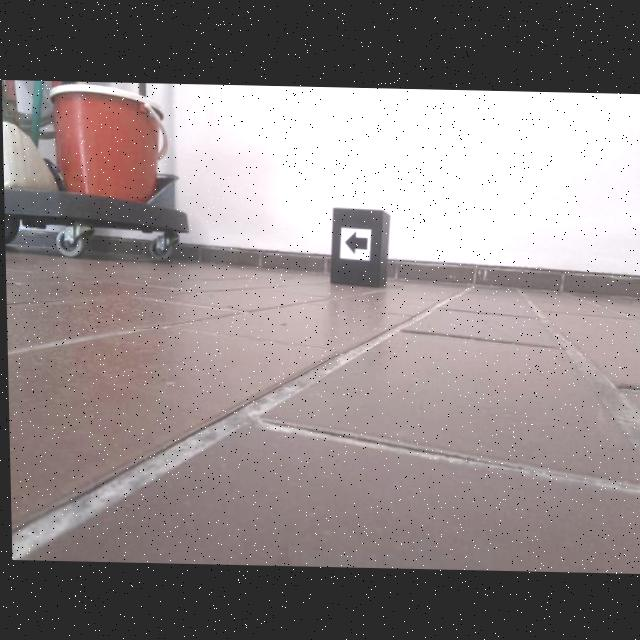LEFT: (343, 229, 367, 254)
